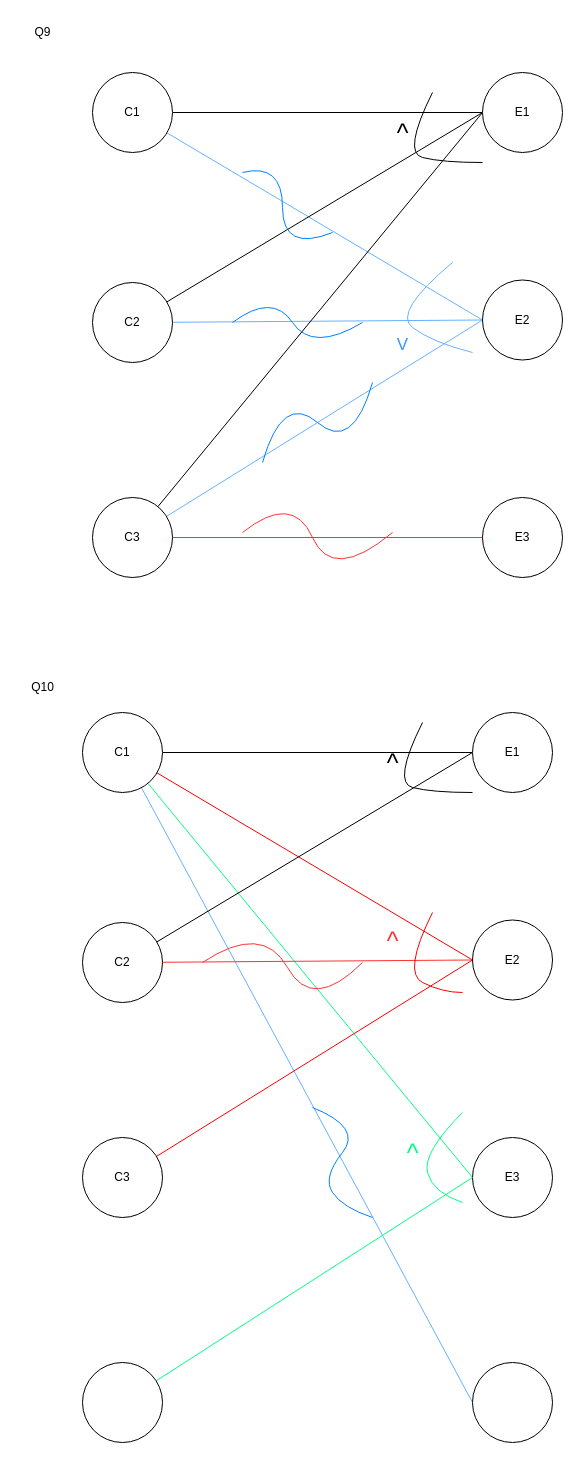
Image size: 580x1460. Some labels were removed from this diagram. The box of each missing label's shape, as (x1, y1, x2, y2) in pixels:
C4: (82, 1362, 162, 1442)
E4: (472, 1362, 552, 1442)
